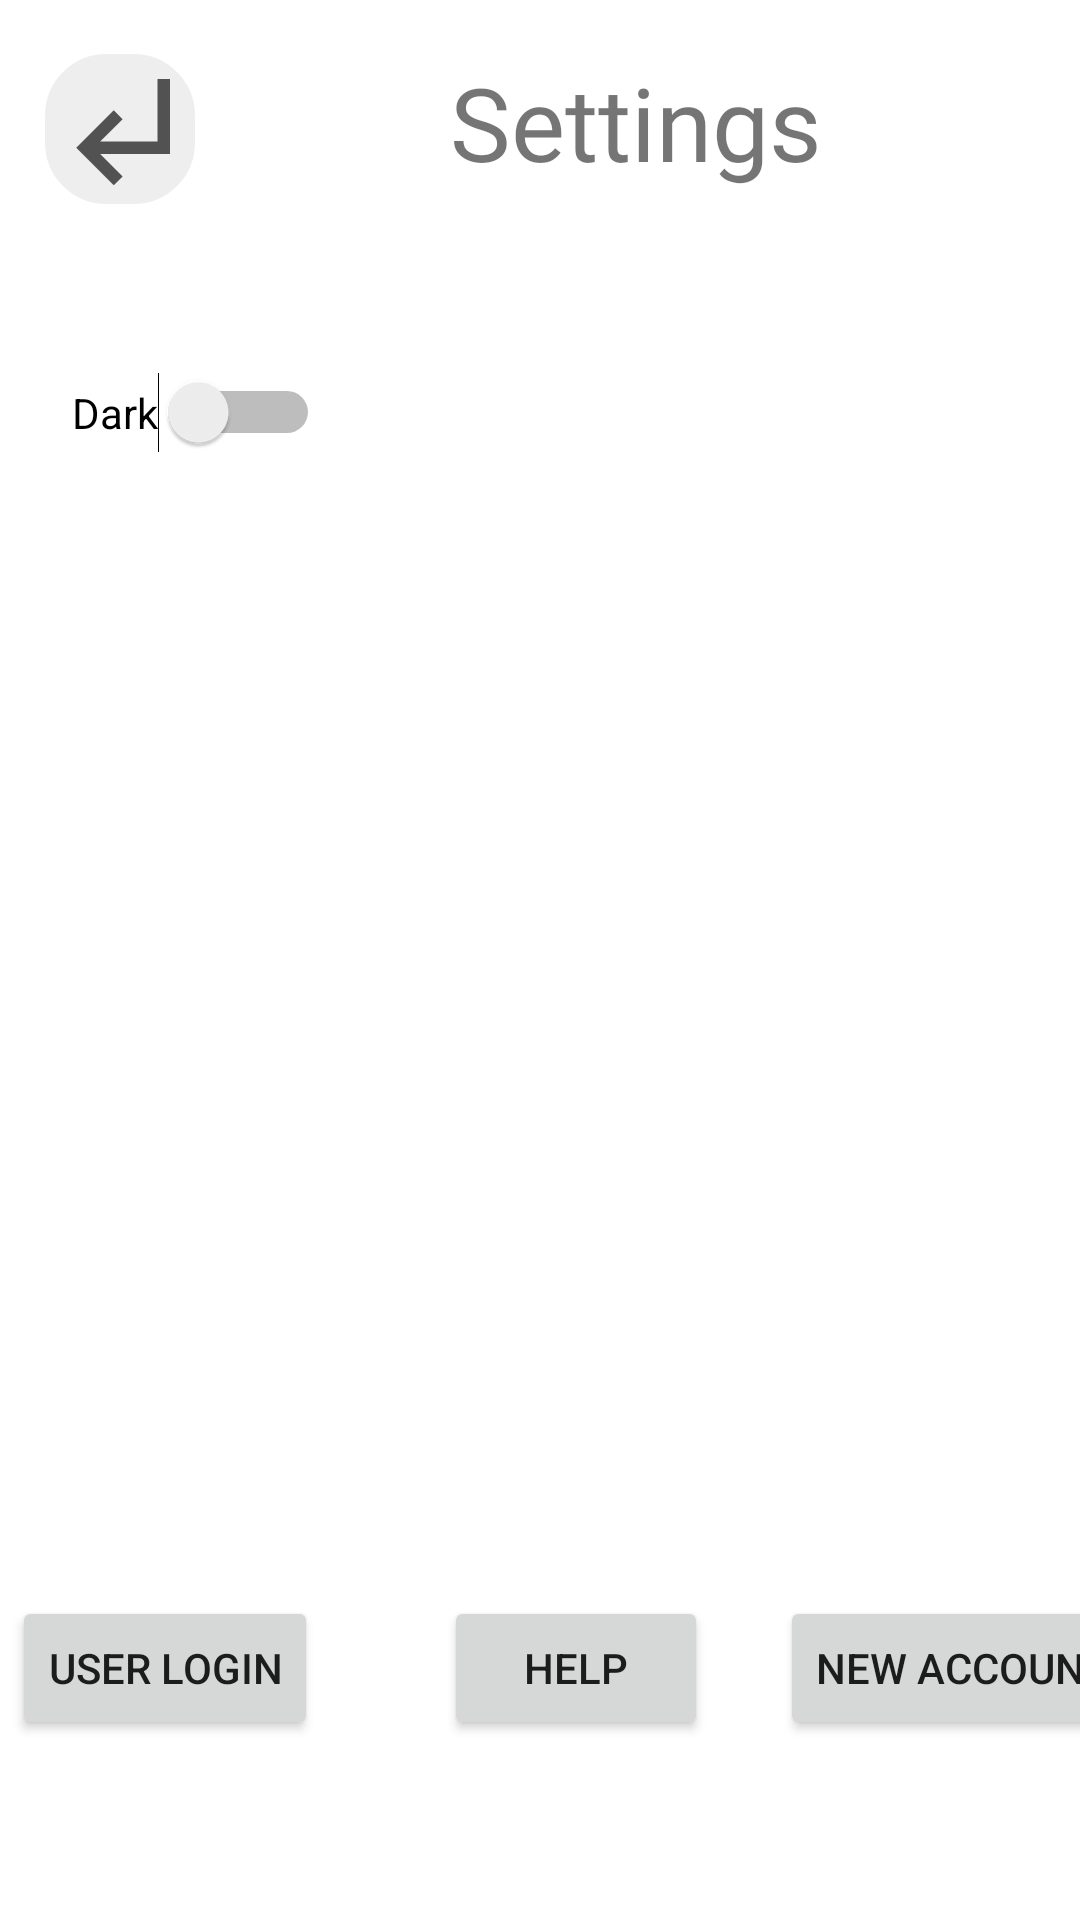

Where icons sit on this 1080×1920 app screen, as (x1, y1, x2, y2):
subdirectory arrow left: (45, 54, 195, 204)
